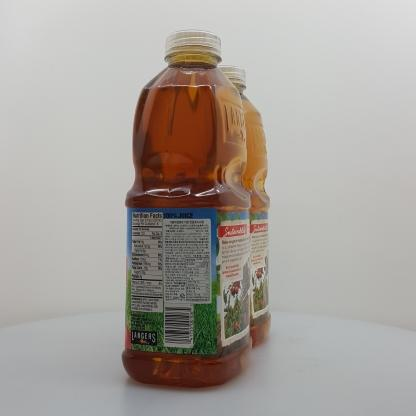-------------: (122, 29, 252, 388)
